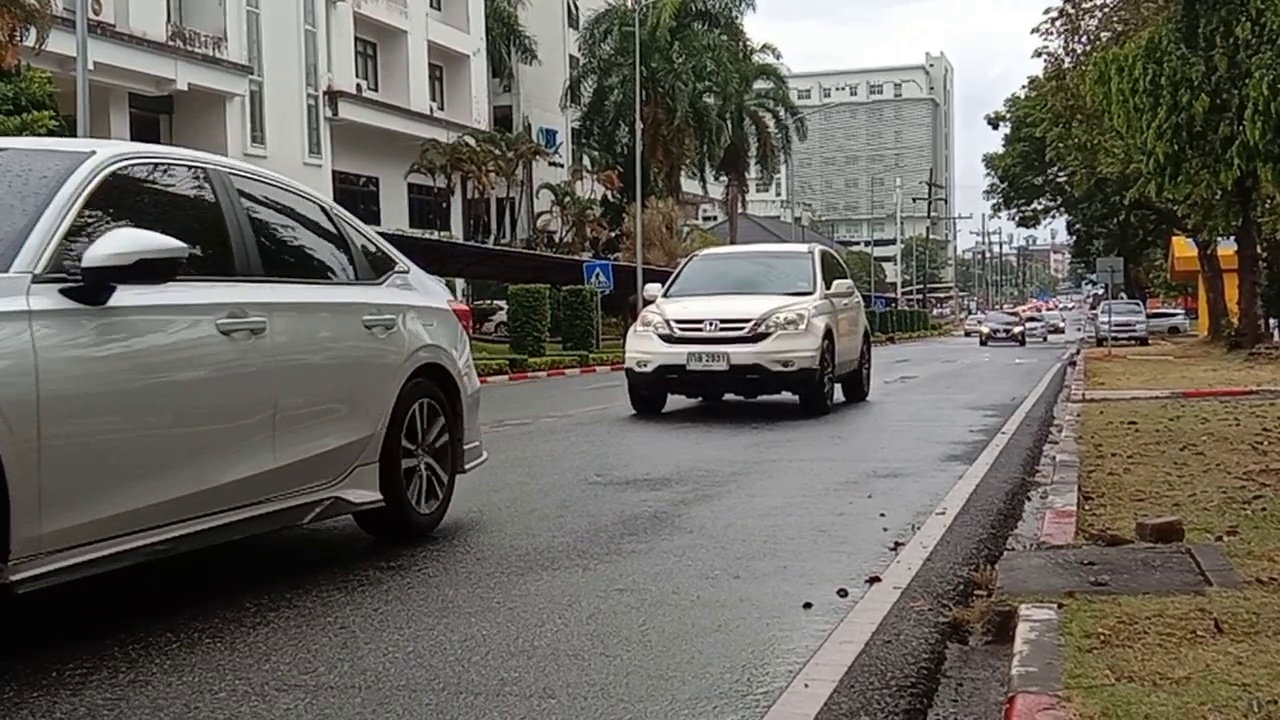License Plate: (685, 348, 731, 374)
